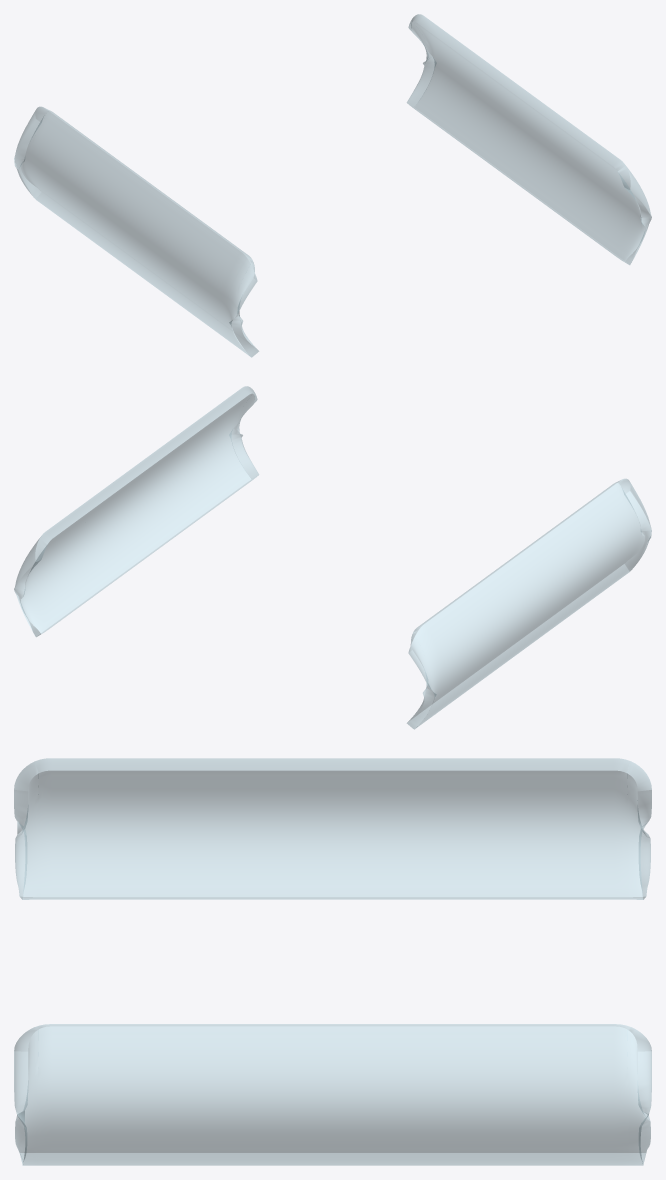
File: SM_GlassWall_Block_Curved.fbx
3 renders of one model, top to bottom at view 1: azimuth 30°, elevation 25°; view 2: azimuth 150°, elevation 25°; view 3: azimuth 270°, elevation 25°, orthographic. The views are drawn at different scales.
Parts seen in each view (by area): view 1: SM_GlassWall_Block_Curved; view 2: SM_GlassWall_Block_Curved; view 3: SM_GlassWall_Block_Curved.
Part boxes in pixels (bbox=[...]): SM_GlassWall_Block_Curved: bbox=[14, 14, 651, 357]; SM_GlassWall_Block_Curved: bbox=[14, 386, 651, 729]; SM_GlassWall_Block_Curved: bbox=[14, 758, 651, 1165].
Size of the model in its own units: 2.18 by 0.4867 by 1.98.
